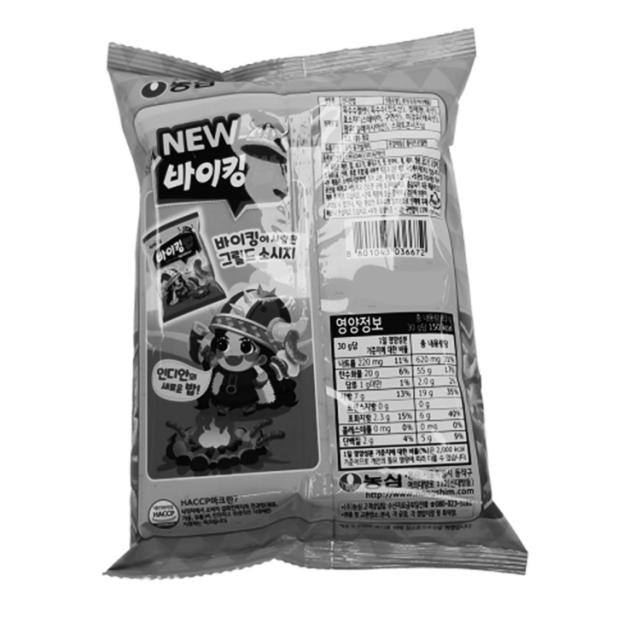Nutrition Label: (324, 304, 479, 477)
